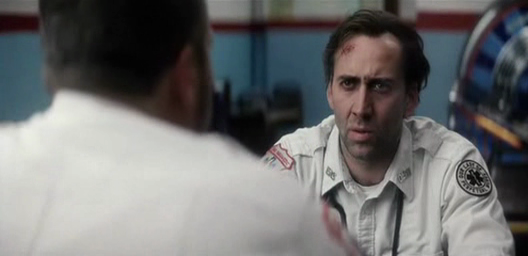face: (331, 58, 402, 161)
mcu: (1, 1, 528, 256)
ots: (1, 1, 366, 256)
person: (258, 9, 516, 256)
